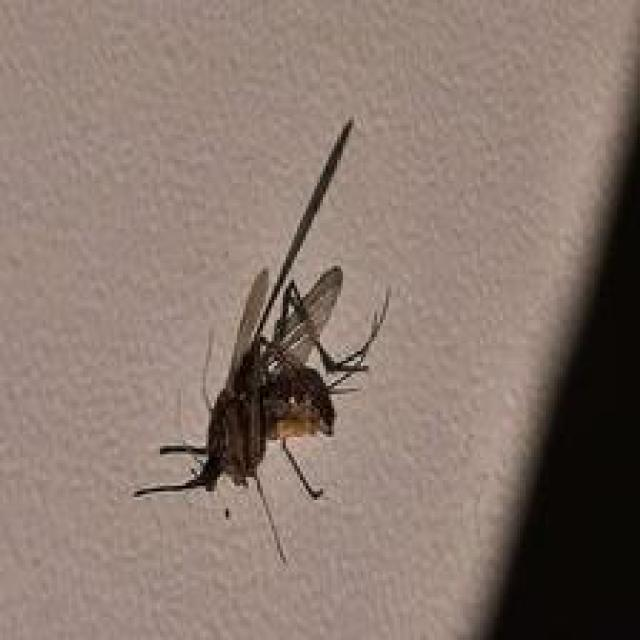Culex: (132, 116, 392, 564)
